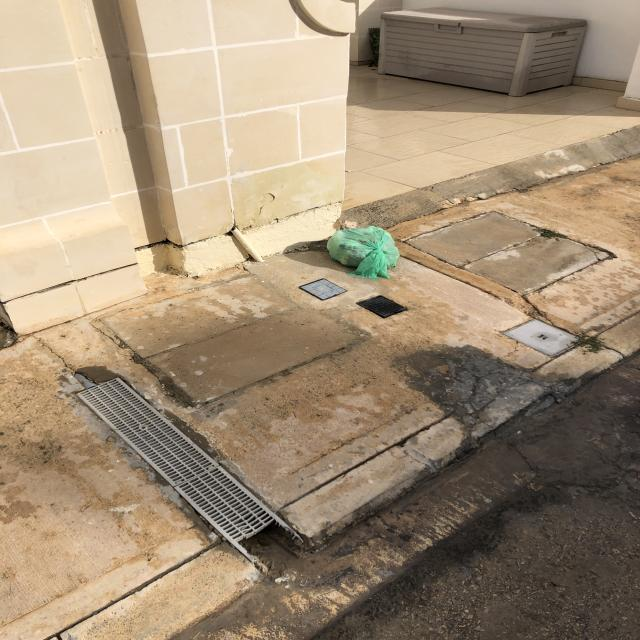Recycled Waste -Grey or Green Bag-: (328, 221, 406, 280)
